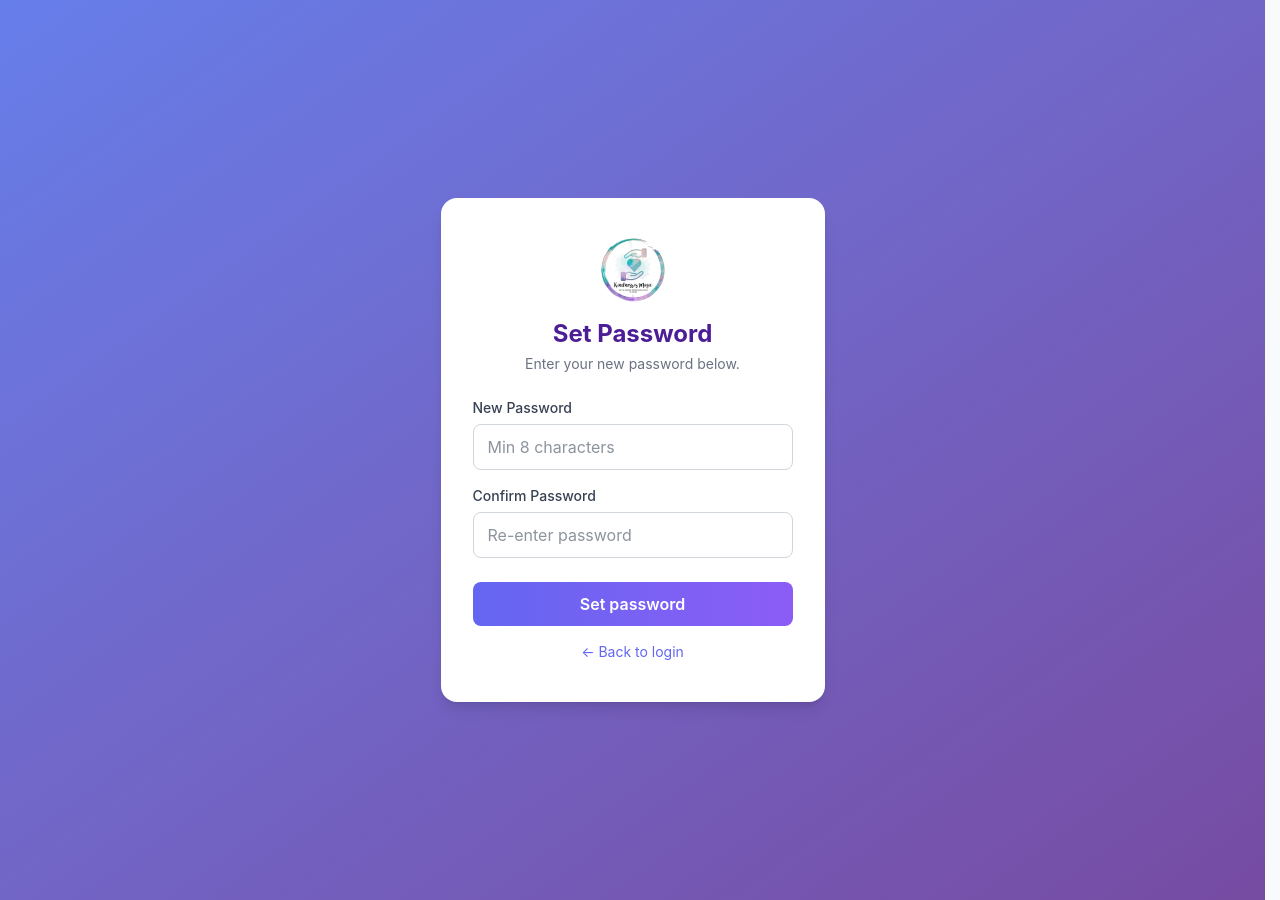
ResetPassword › shows the API error detail when the token is invalid
The width and height of the screenshot is (1280, 900).
Step 1. Type "password123" into the password field labelled "New Password" → (632, 447), box top-left (472, 424), bottom-right (792, 470)
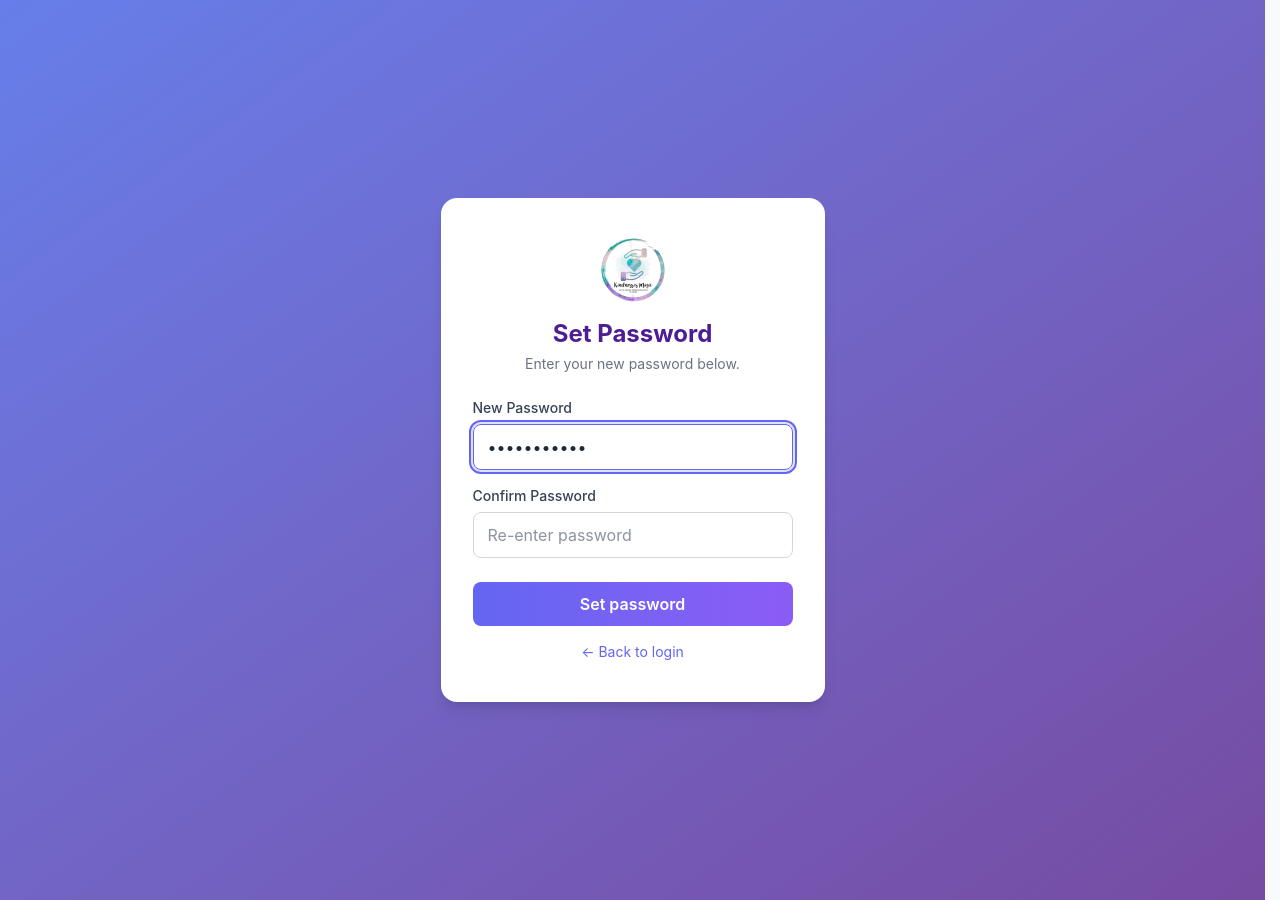
Step 2. Type "password123" into the password field labelled "Confirm Password" → (632, 535), box top-left (472, 512), bottom-right (792, 558)
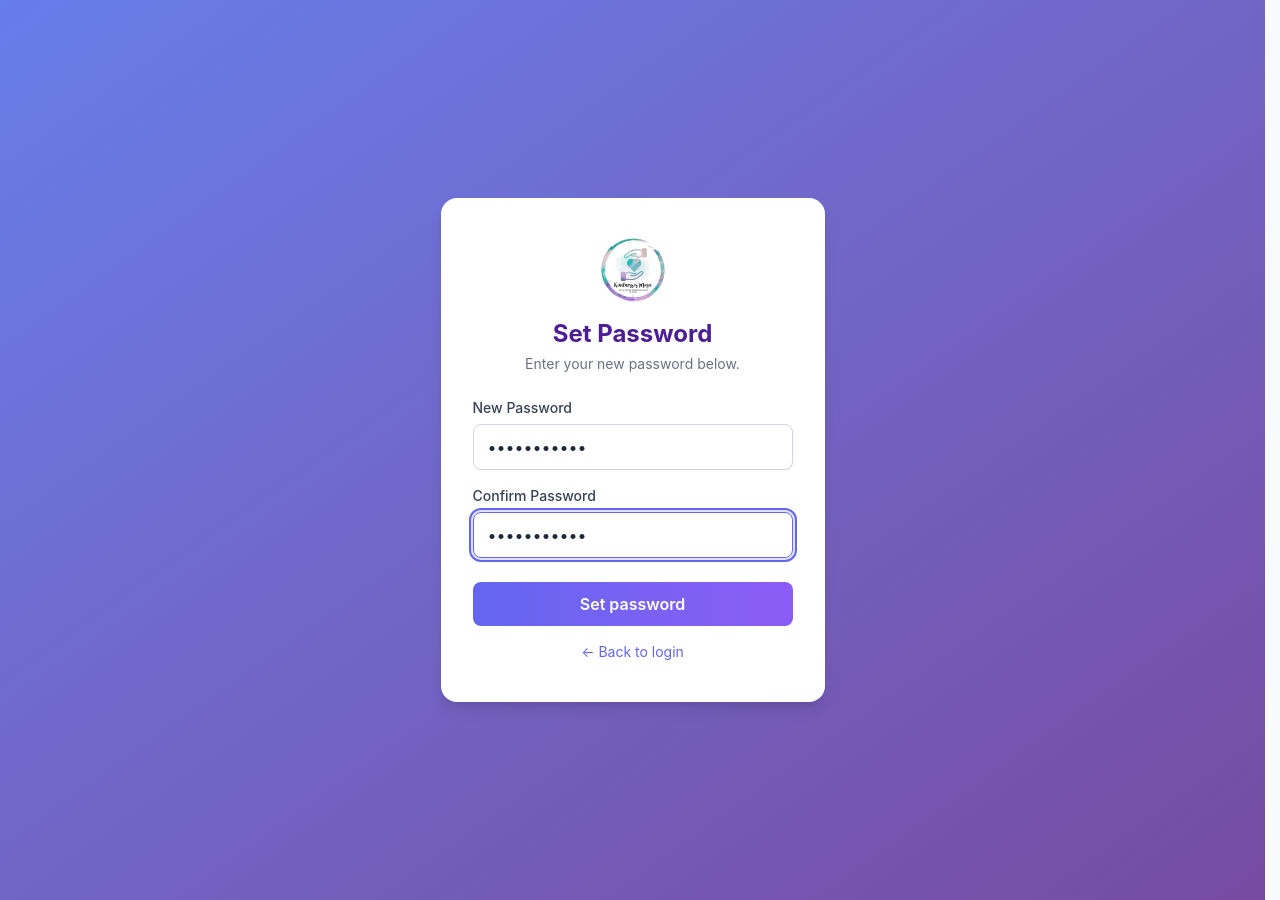
Step 3. Click the button "Set password" → (632, 604), box top-left (472, 582), bottom-right (792, 626)
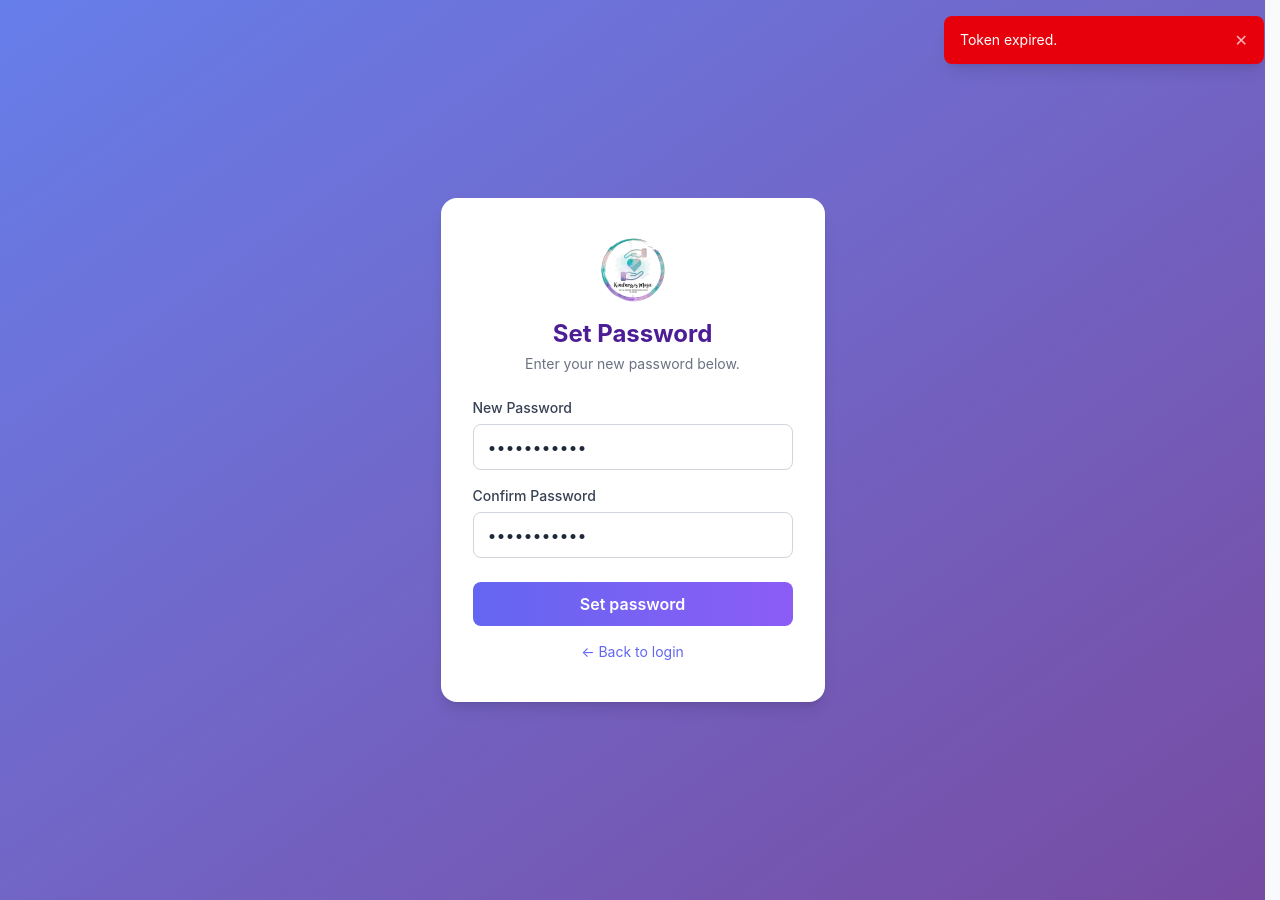
Expected: the text "Token expired." is shown, top-left (960, 31), bottom-right (1057, 48)
